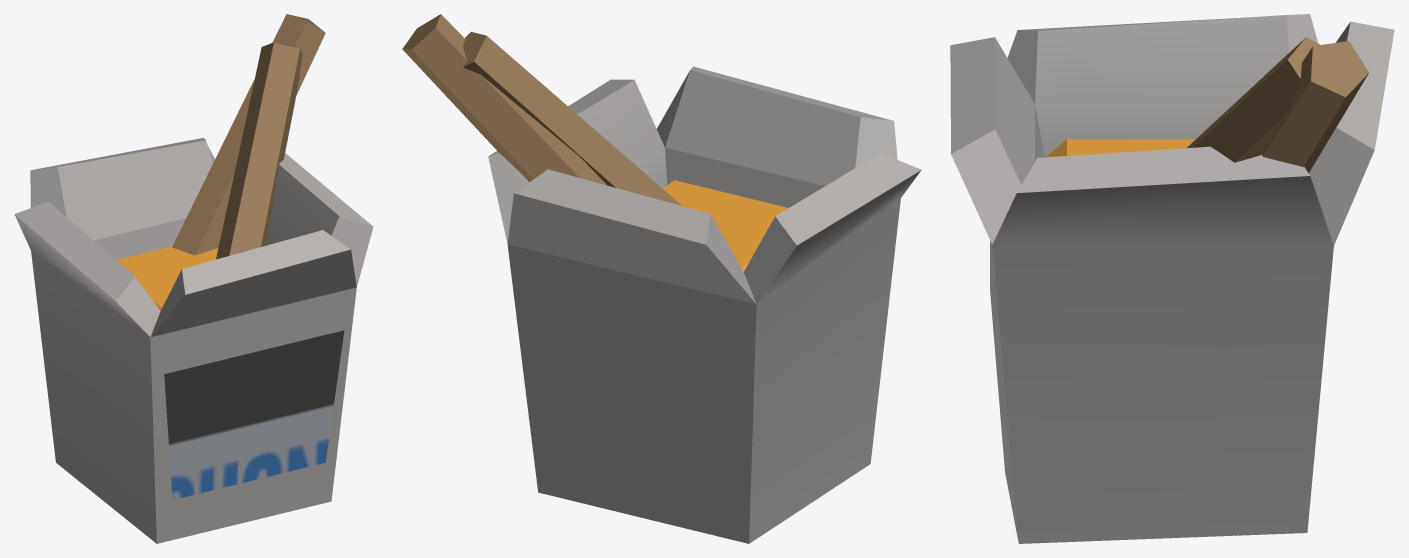
Rendered from SM_Prop_Noodles_01.fbx.
3 renders of one model, left to right at view 1: azimuth 30°, elevation 25°; view 2: azimuth 150°, elevation 25°; view 3: azimuth 270°, elevation 25°, orthographic. The views are drawn at different scales.
Visible parts, largest first — view 1: SM_Prop_Noodles_01; view 2: SM_Prop_Noodles_01; view 3: SM_Prop_Noodles_01.
Part boxes in pixels (bbox=[...]): SM_Prop_Noodles_01: bbox=[14, 14, 373, 543]; SM_Prop_Noodles_01: bbox=[402, 14, 921, 543]; SM_Prop_Noodles_01: bbox=[950, 14, 1394, 543].
Size of the model in its own units: 19.33 by 22.6 by 16.46.
